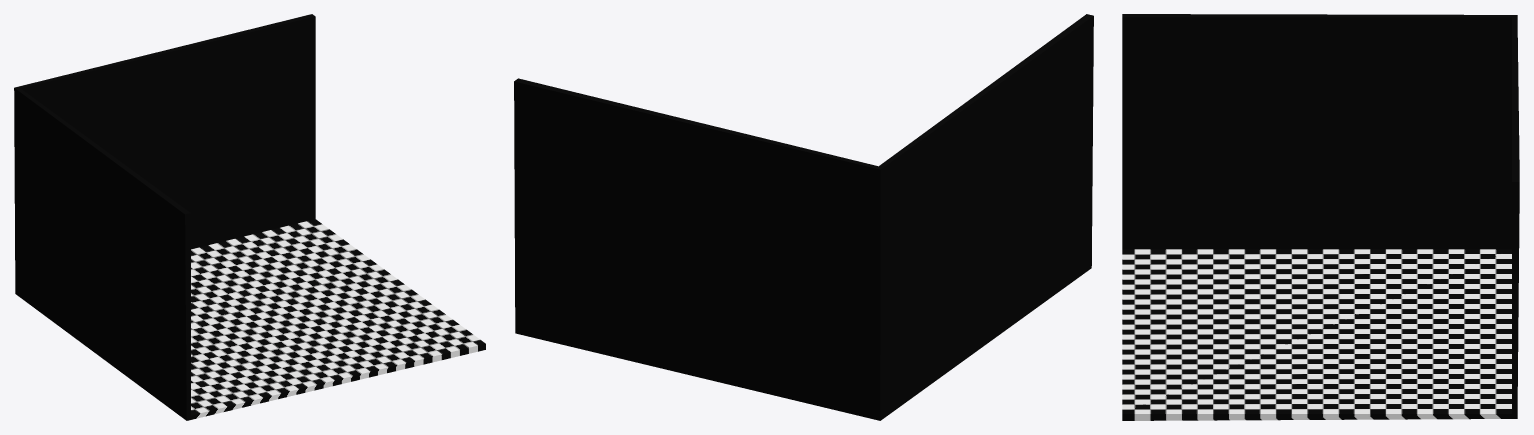
The model's file is room-transformed.glb.
The picture shows the model from 3 angles, left to right: view 1: azimuth 30°, elevation 25°; view 2: azimuth 150°, elevation 25°; view 3: azimuth 270°, elevation 25°; orthographic projection. The views are drawn at different scales.
Visible parts, largest first — view 1: room; view 2: room; view 3: room.
Boxes of the visible parts, left/top/right/bottom form: room: left=14, top=14, right=485, bottom=420; room: left=514, top=14, right=1093, bottom=420; room: left=1122, top=14, right=1519, bottom=420.
Bounding box in the file's own units: 10.2 × 6.76 × 10.2.
2 materials, 1 textured.
